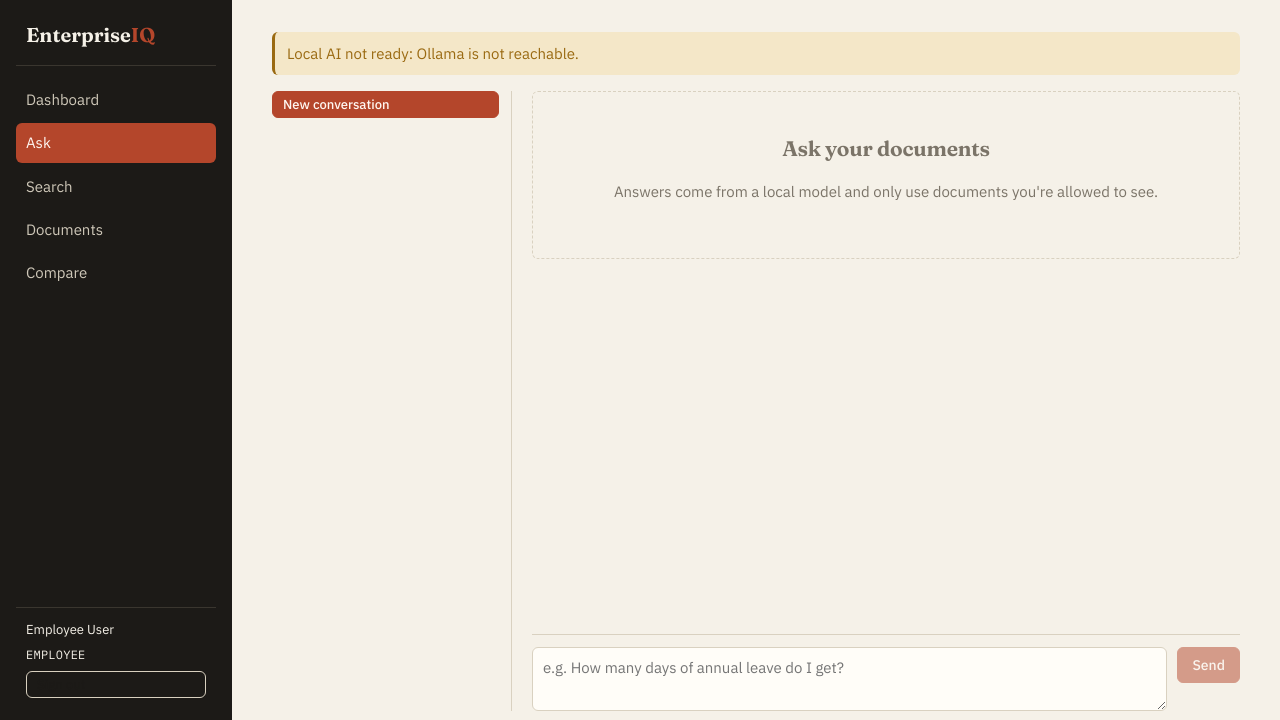
Scenario: chat UI › shows a clear error when the local model is unavailable
Expected: the text "Local AI not ready: Ollama is not reachable." is shown, 272,32 -> 1240,75
In the text box named "Your question": (850, 679) 532,647 -> 1167,711, type "Anything?"
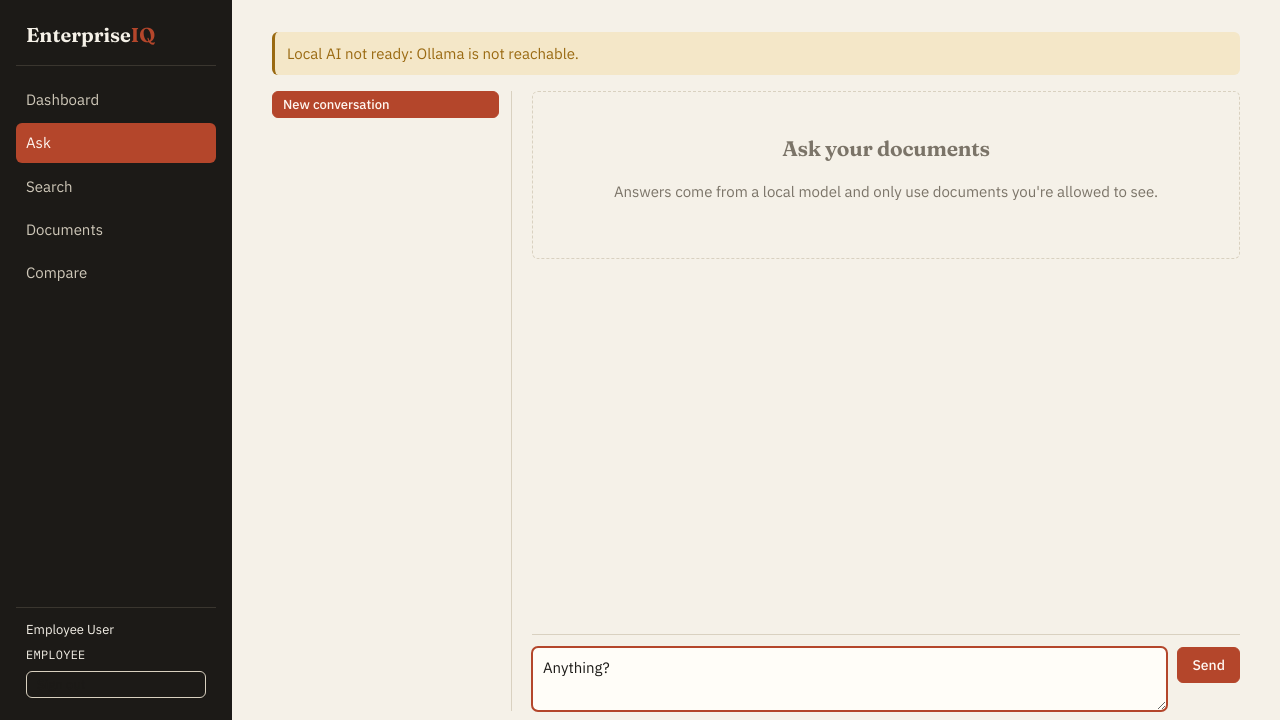
Click the button "Send": (1209, 665) 1177,647 -> 1240,683
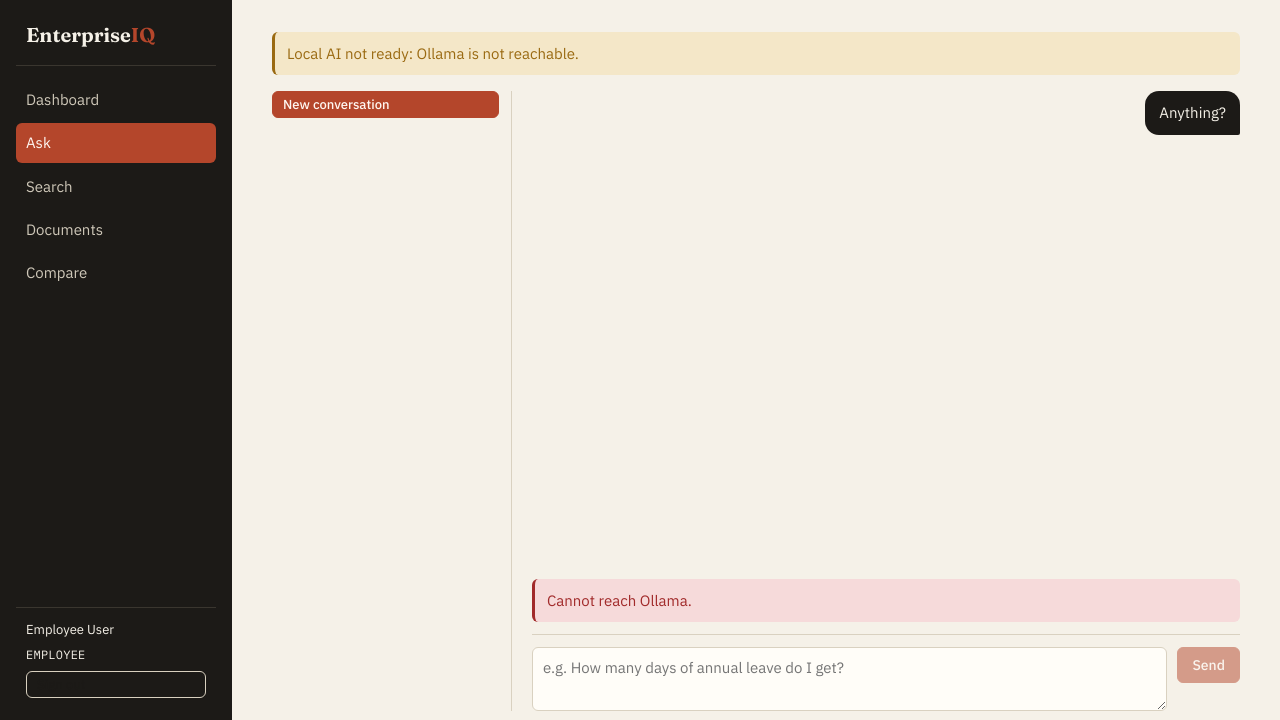
Expected: the text "Cannot reach Ollama." is shown, 532,578 -> 1240,622
